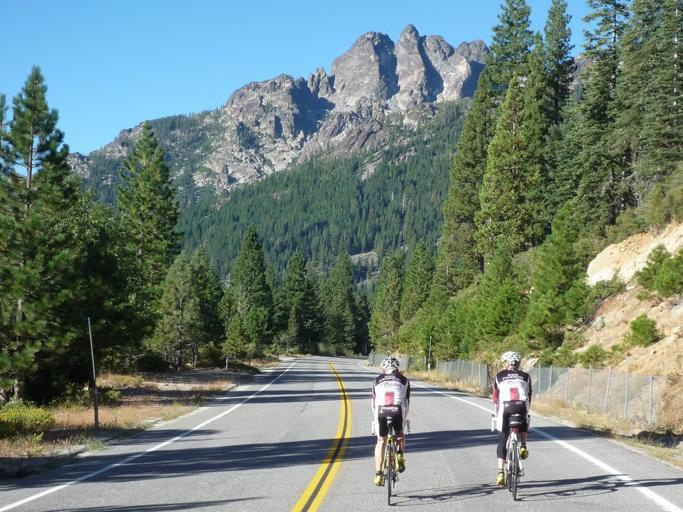non-vehicle: (370, 417, 410, 506), (490, 414, 530, 500)
